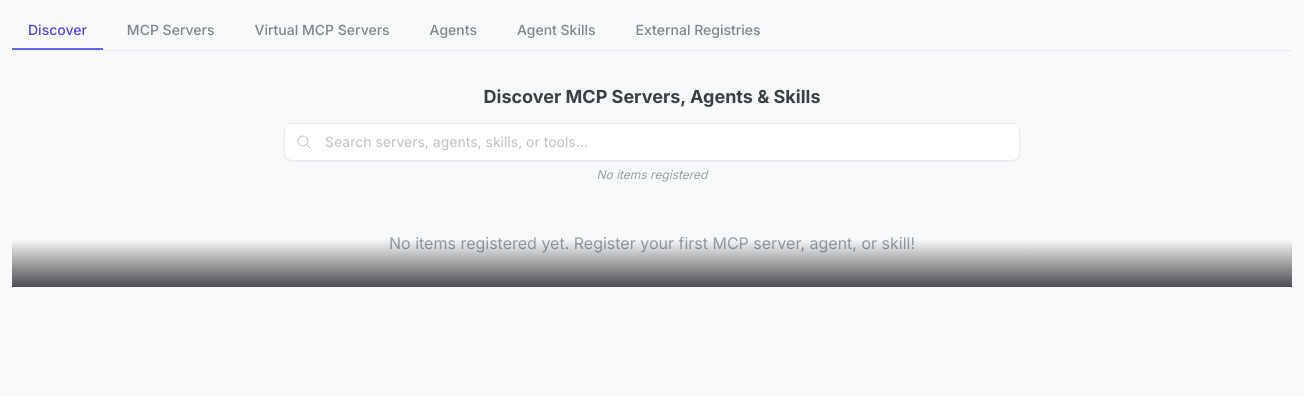
Dashboard entity collections › shows the external empty state when no external registries are configured
The image size is (1304, 396).
Click the button "External Registries". click: (698, 31)
box: [620, 12, 777, 50]
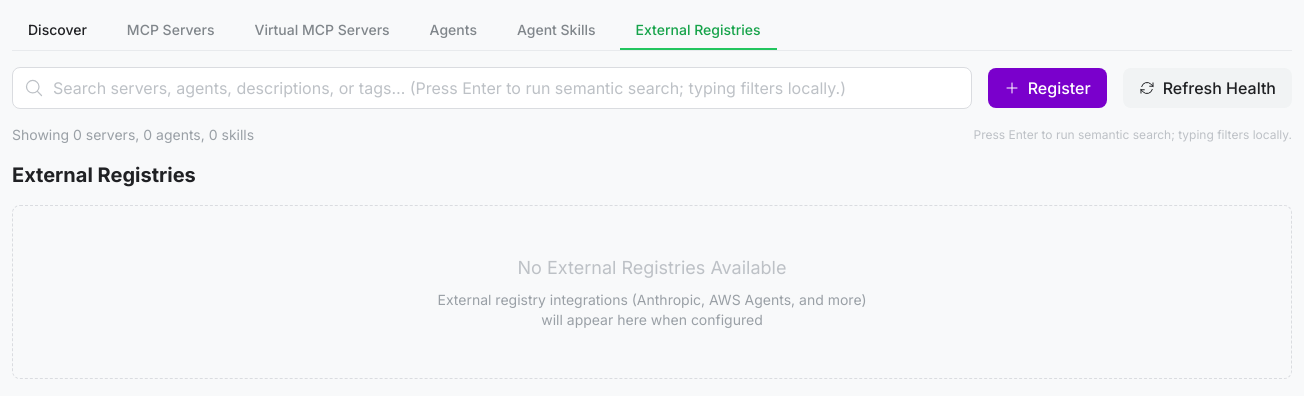
Expected: the text "No External Registries Available" is shown, [518, 257, 786, 278]
